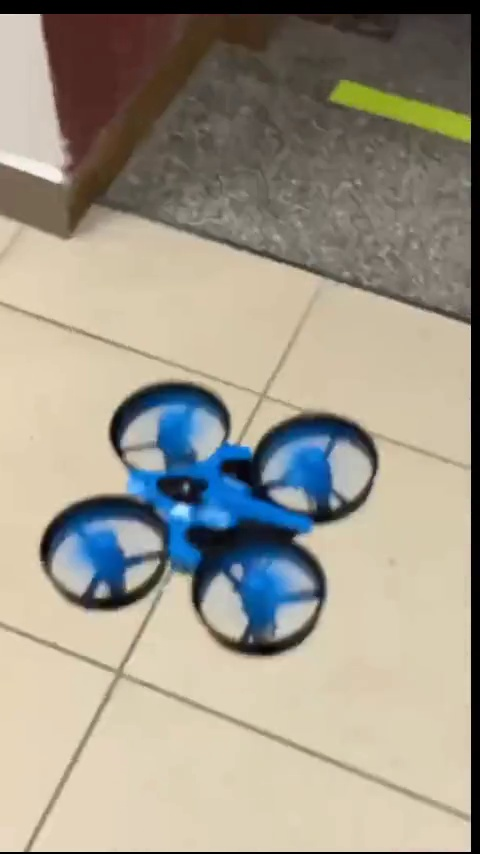drone: (41, 382, 376, 653)
